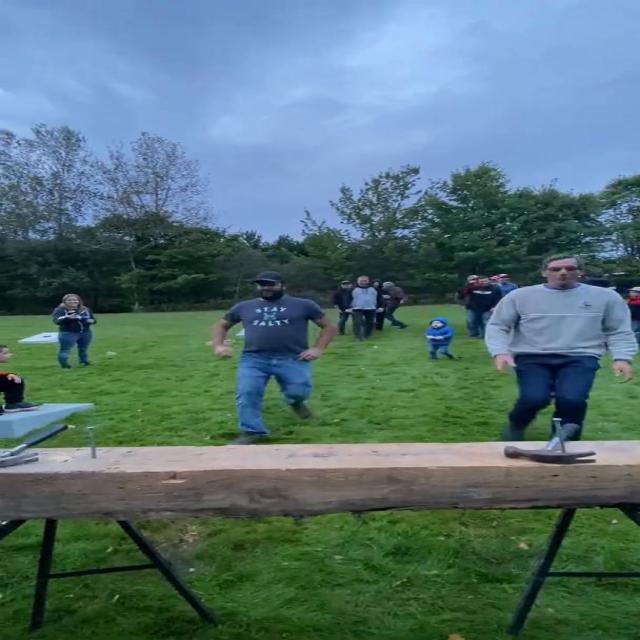hammer: (504, 423, 598, 464), (0, 424, 69, 468)
